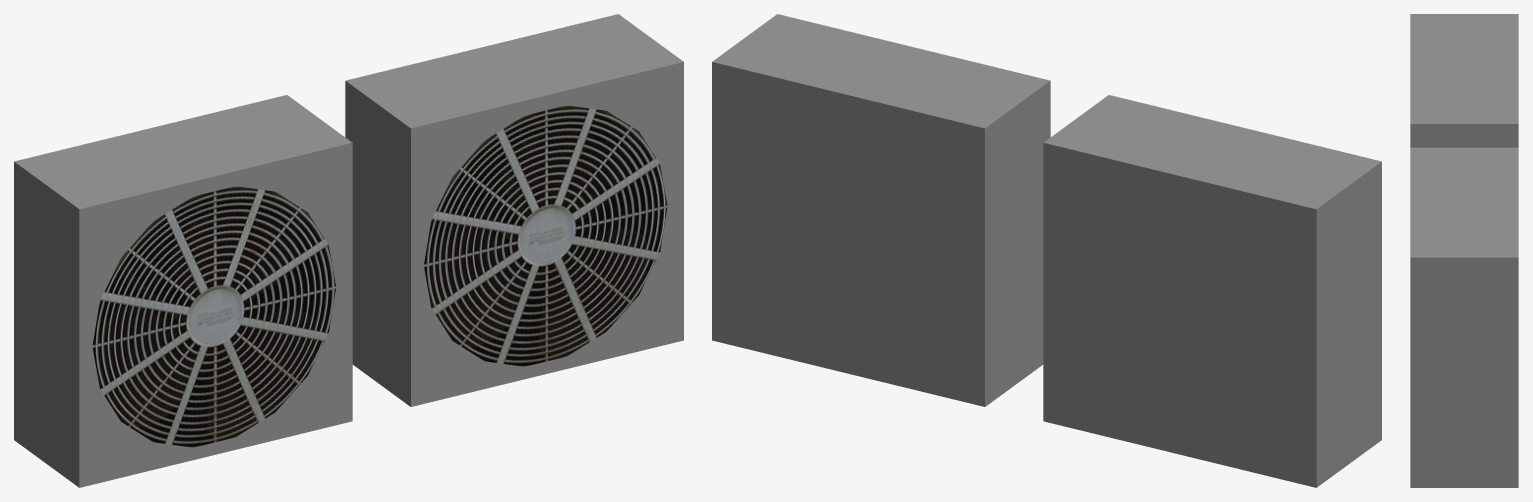
File: Air_Con02.FBX
3 views of the same model, side by side, from view 1: azimuth 30°, elevation 25°; view 2: azimuth 150°, elevation 25°; view 3: azimuth 270°, elevation 25° (orthographic). The views are drawn at different scales.
Parts seen in each view (by area): view 1: Air_Con02; view 2: Air_Con02; view 3: Air_Con02.
Part boxes in pixels (x1,y1,x2,y2): Air_Con02: [14, 14, 683, 487]; Air_Con02: [712, 14, 1381, 487]; Air_Con02: [1410, 14, 1518, 487].
Bounding box in the file's own units: 1.53 × 0.6751 × 0.2873.
2 materials, 1 textured.
